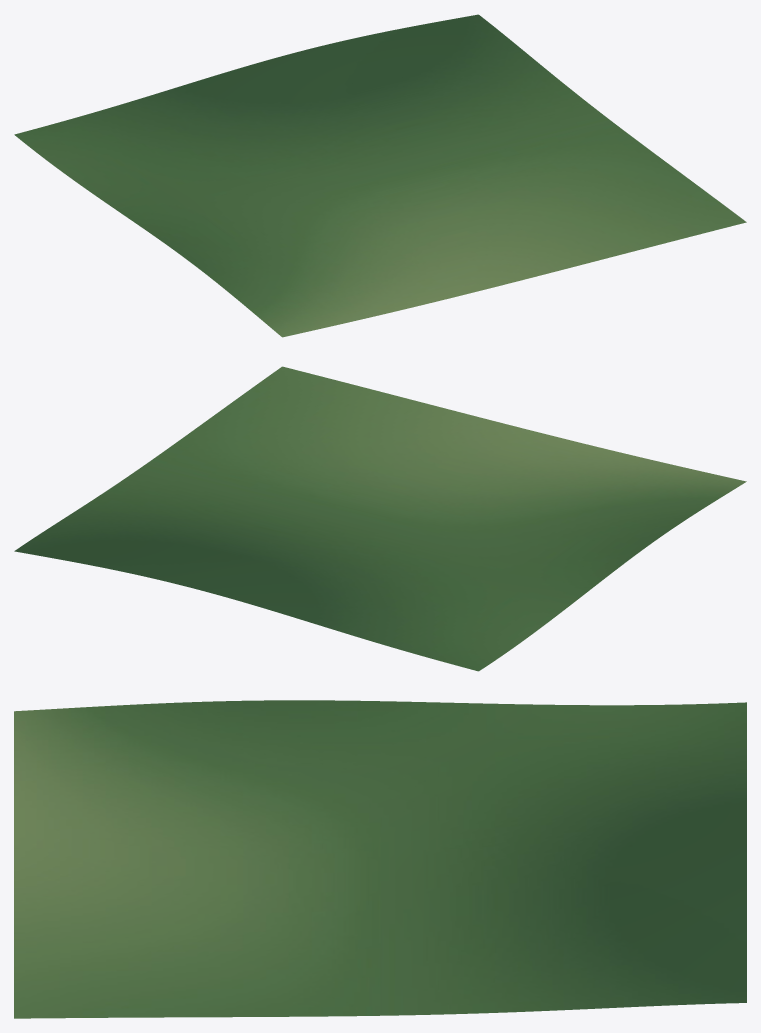
File: terrain_T_E01_S01.glb
3 renders of one model, top to bottom at view 1: azimuth 30°, elevation 25°; view 2: azimuth 150°, elevation 25°; view 3: azimuth 270°, elevation 25°, orthographic. The views are drawn at different scales.
Parts seen in each view (by area): view 1: Terrain_T_E01_S01; view 2: Terrain_T_E01_S01; view 3: Terrain_T_E01_S01.
Part boxes in pixels (x1=…): Terrain_T_E01_S01: x1=14, y1=14, x2=746, y2=337; Terrain_T_E01_S01: x1=14, y1=366, x2=746, y2=671; Terrain_T_E01_S01: x1=14, y1=700, x2=746, y2=1018.
Bounding box in the file's own units: 2000 × 90.11 × 2000.
Materials: 1 (1 with a texture image).
